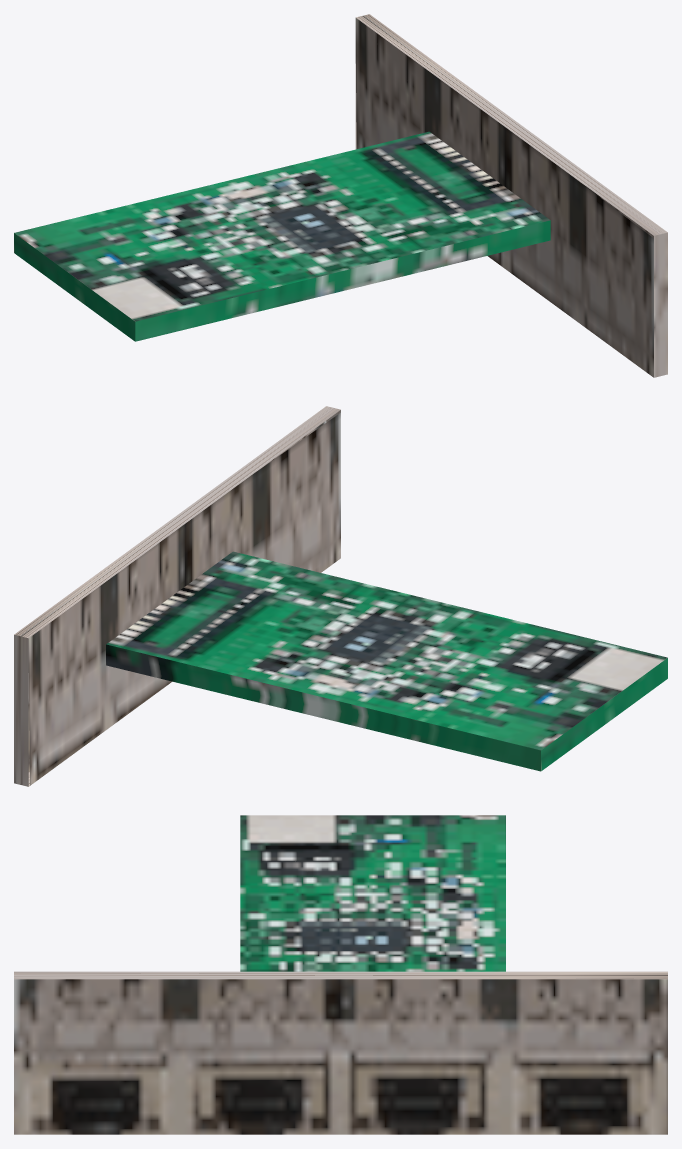
Rendered from NetworkCard.fbx.
3 views of the same model, one above another, from view 1: azimuth 30°, elevation 25°; view 2: azimuth 150°, elevation 25°; view 3: azimuth 270°, elevation 25° (orthographic). The views are drawn at different scales.
Visible parts, largest first — view 1: NetworkCard; view 2: NetworkCard; view 3: NetworkCard.
Part boxes in pixels (x1,y1,x2,y2): NetworkCard: [14, 14, 667, 377]; NetworkCard: [14, 406, 667, 786]; NetworkCard: [14, 815, 667, 1134].
Bounding box in the file's own units: 8.79 × 2.78 × 10.58.
